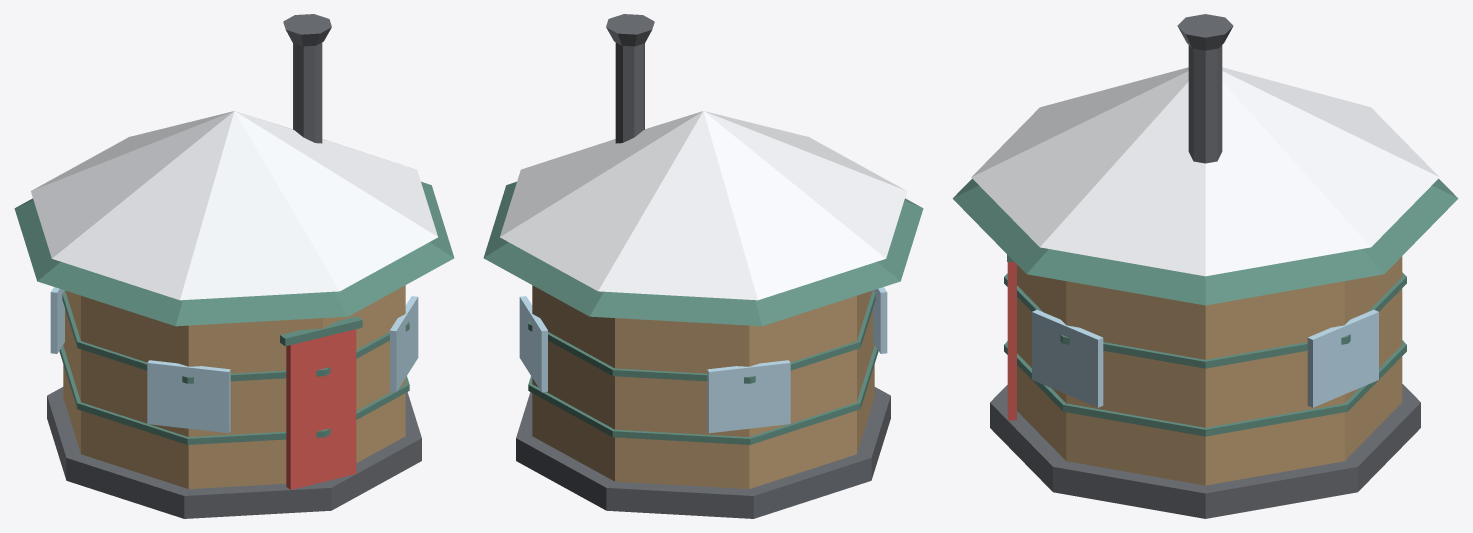
File: hut.glb
The picture shows the model from 3 angles, left to right: view 1: azimuth 30°, elevation 25°; view 2: azimuth 150°, elevation 25°; view 3: azimuth 270°, elevation 25°; orthographic projection. The views are drawn at different scales.
Visible parts, largest first — view 1: warming-hut; view 2: warming-hut; view 3: warming-hut.
Part boxes in pixels (x1,y1,x2,y2): warming-hut: [14, 14, 454, 518]; warming-hut: [483, 14, 923, 518]; warming-hut: [952, 14, 1458, 518].
Bounding box in the file's own units: 5.4 × 5.2 × 5.4.
